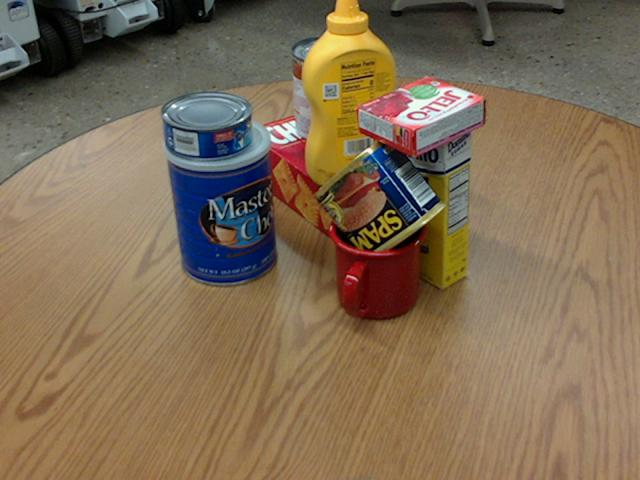cracker_box: (243, 96, 463, 252)
gelatin_box: (357, 76, 485, 156)
large_marker: (223, 113, 247, 214)
master_chef_can: (162, 114, 278, 284)
mug: (326, 204, 426, 321)
mustard_bottle: (302, 0, 396, 185)
potted_meat_can: (313, 135, 447, 266)
sugar_box: (375, 92, 471, 291)
tomato_soup_can: (289, 36, 350, 142)
tuna_fish_can: (159, 90, 251, 159)
